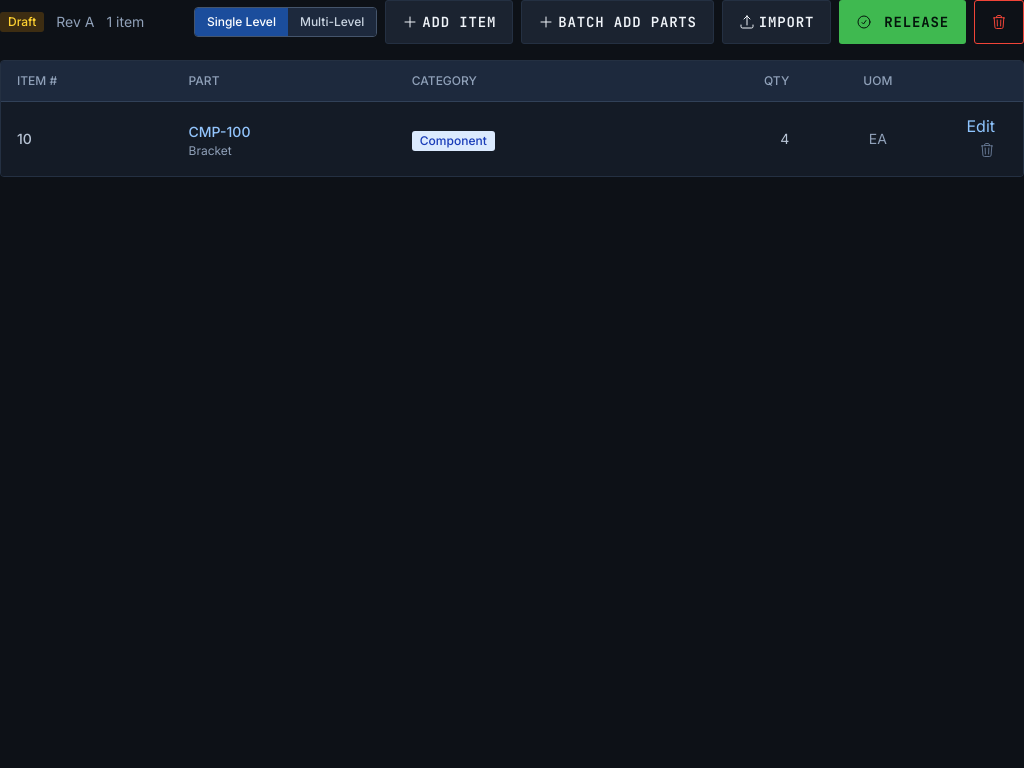
Scenario: PartBOMTab delete-item confirm pending › a refused delete closes the dialog on settle with the verbatim error toast
The image size is (1024, 768).
Click the button named "Delete CMP-100".
click(987, 150)  # box [975, 138, 999, 162]
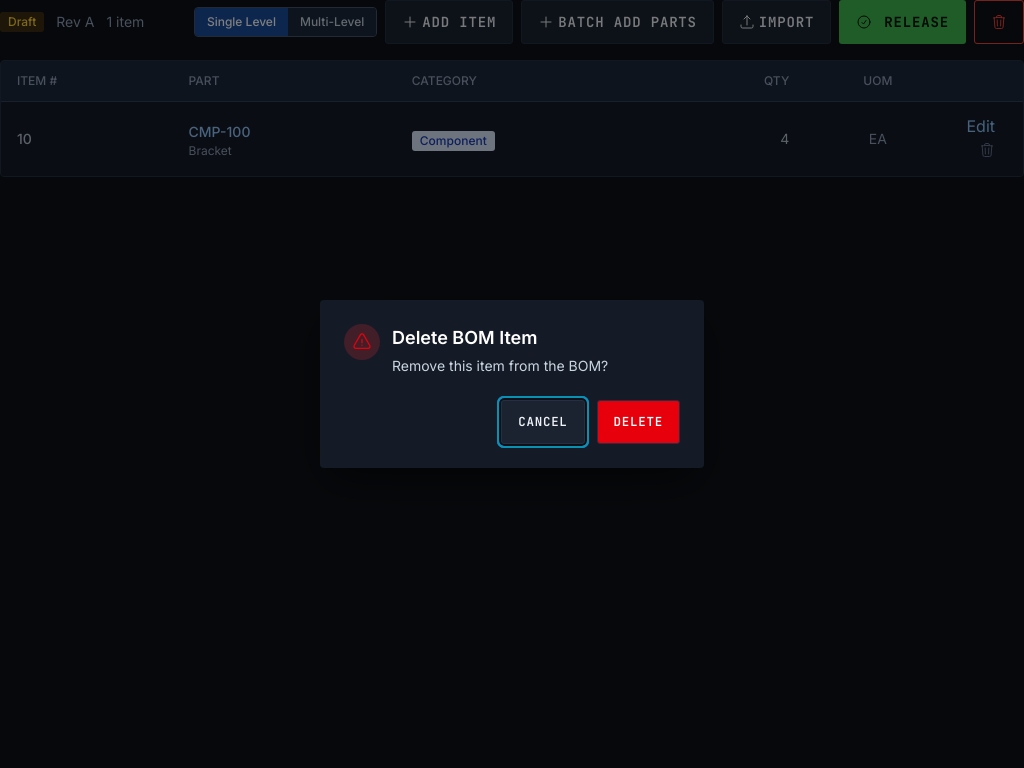
Click the button "Delete".
click(638, 422)  # box [597, 400, 680, 444]
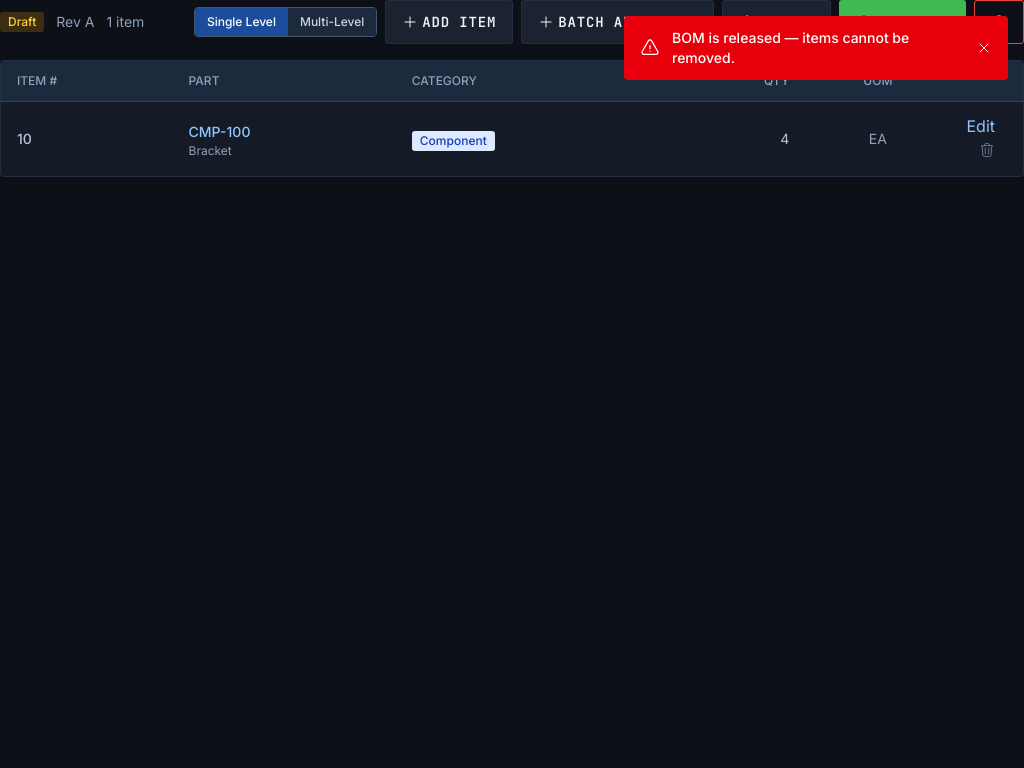
Expected: the text "BOM is released — items cannot be removed." is shown, [672, 29, 909, 66]
Expected: the dialog is gone
